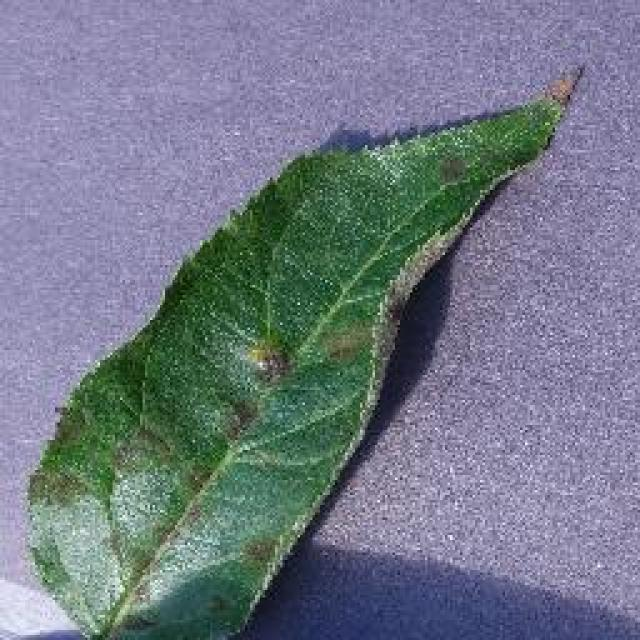apple scab disease: (20, 60, 585, 638)
